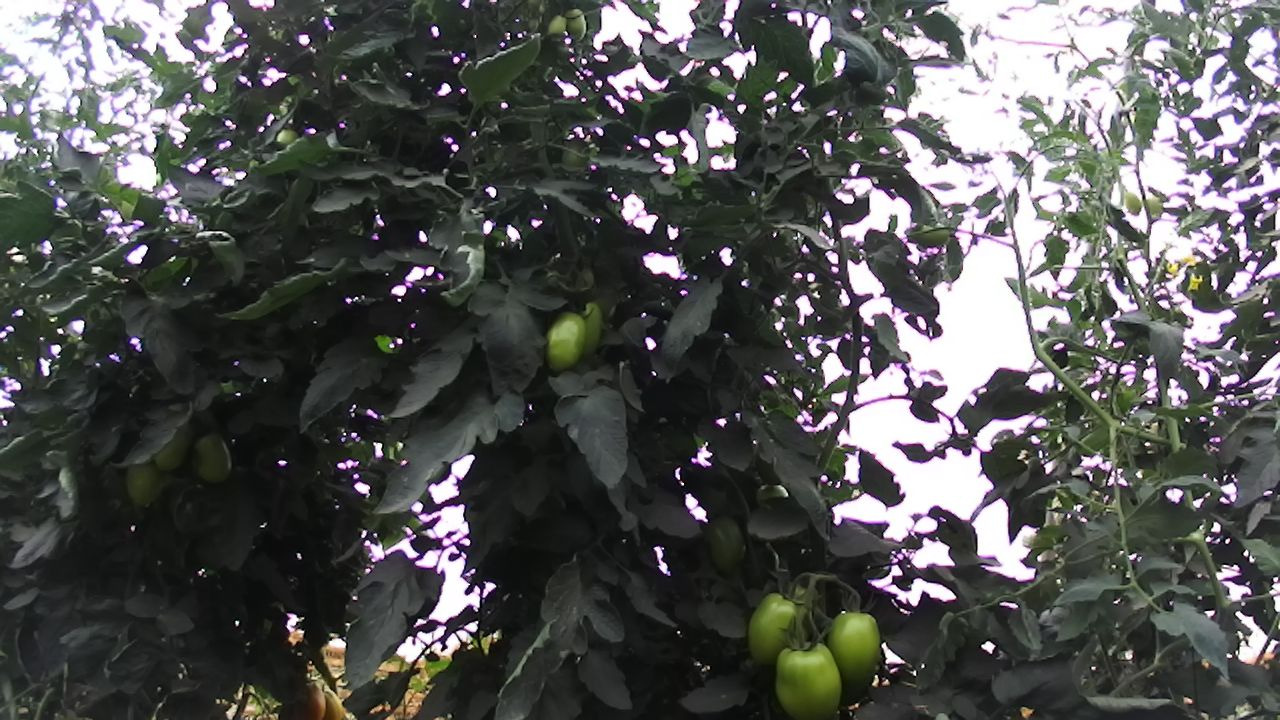tomato: (772, 638, 845, 720), (826, 609, 883, 699), (744, 589, 806, 666), (538, 305, 590, 373), (698, 510, 748, 579), (183, 428, 236, 492), (125, 454, 167, 510), (562, 5, 590, 41)
